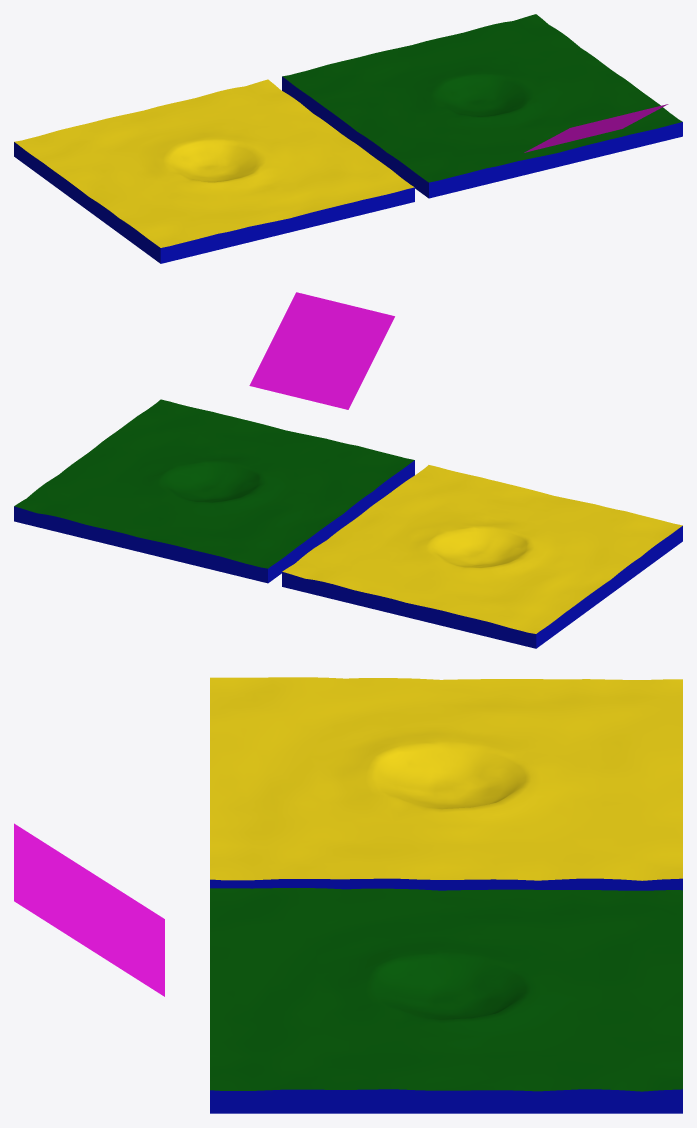
Rendered from Picard_LP.fbx.
3 views of the same model, one above another, from view 1: azimuth 30°, elevation 25°; view 2: azimuth 150°, elevation 25°; view 3: azimuth 270°, elevation 25° (orthographic). The views are drawn at different scales.
Parts seen in each view (by area): view 1: Picard_LP2, Picard_LP, Plansza; view 2: Picard_LP2, Picard_LP, Plansza; view 3: Picard_LP, Picard_LP2, Plansza.
Boxes of the visible parts, box(x1,y1,x2,y2) form: Picard_LP2: box(14, 79, 414, 263); Picard_LP: box(282, 14, 682, 198); Plansza: box(524, 104, 668, 152); Picard_LP2: box(282, 465, 682, 648); Picard_LP: box(14, 399, 414, 583); Plansza: box(249, 292, 394, 409); Picard_LP: box(210, 888, 682, 1113); Picard_LP2: box(210, 677, 682, 890); Plansza: box(14, 823, 164, 996).
Size of the model in its own units: 5271 by 921 by 3630.
